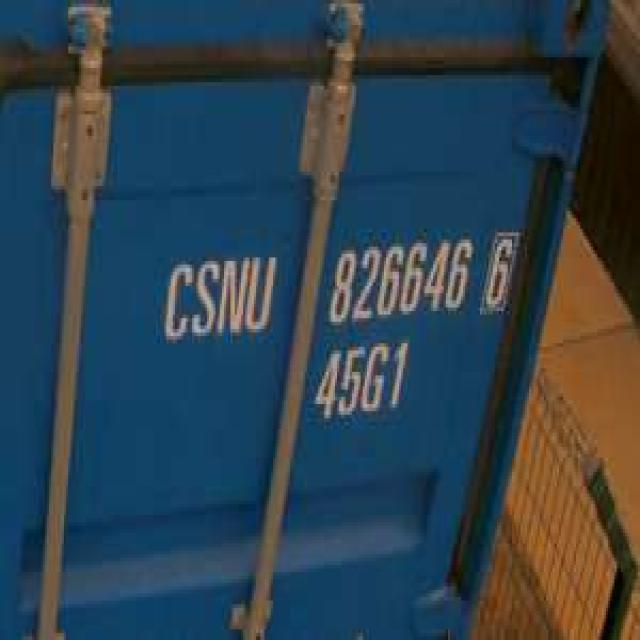dv: (481, 227, 522, 326)
owner: (157, 240, 279, 348)
serial: (323, 230, 475, 326)
size: (310, 335, 416, 422)
